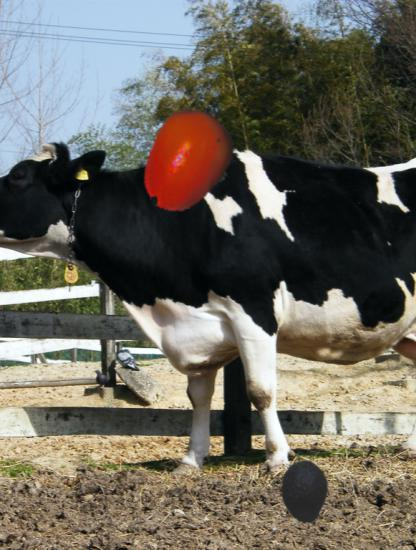Avocado: (271, 461, 335, 525)
Kaki: (131, 102, 246, 217)
